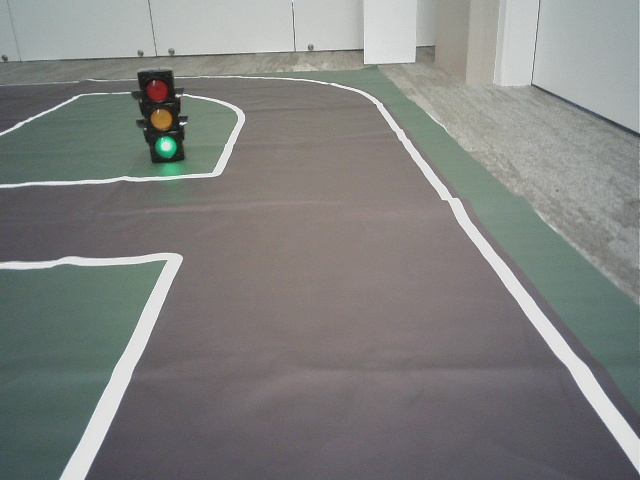green: (142, 71, 181, 161)
